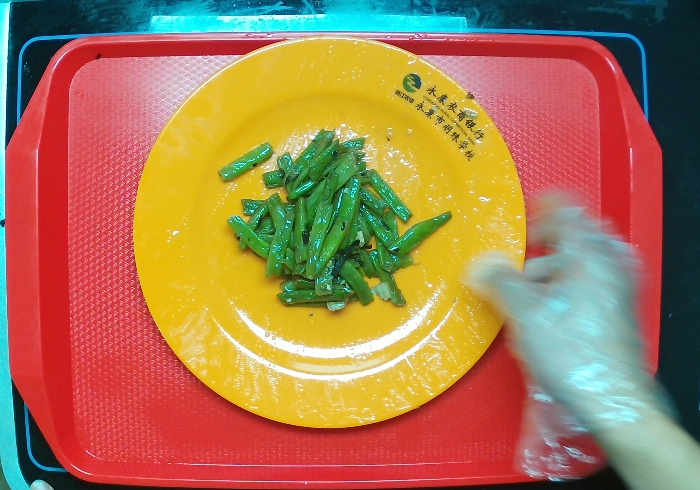YKMZ-Ju_Se_Mian_Pan: (131, 34, 528, 429)
